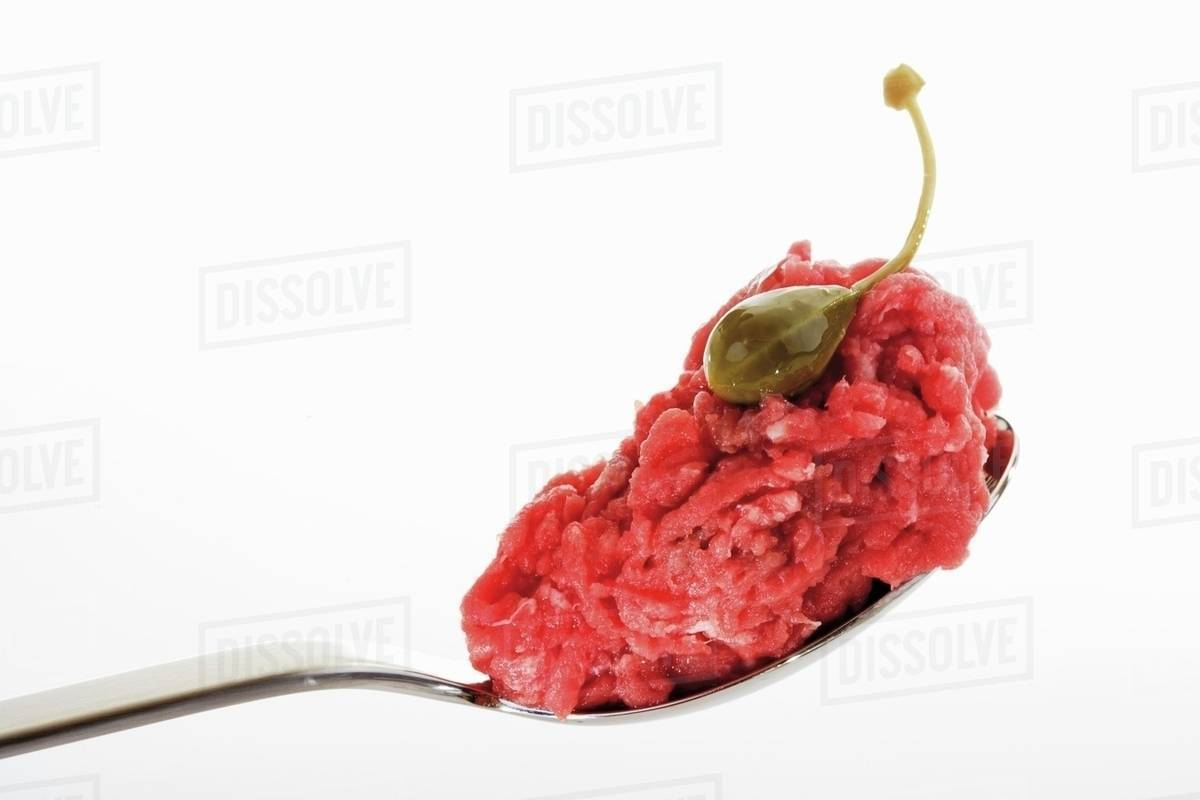ground_beef: (467, 268, 1004, 735)
